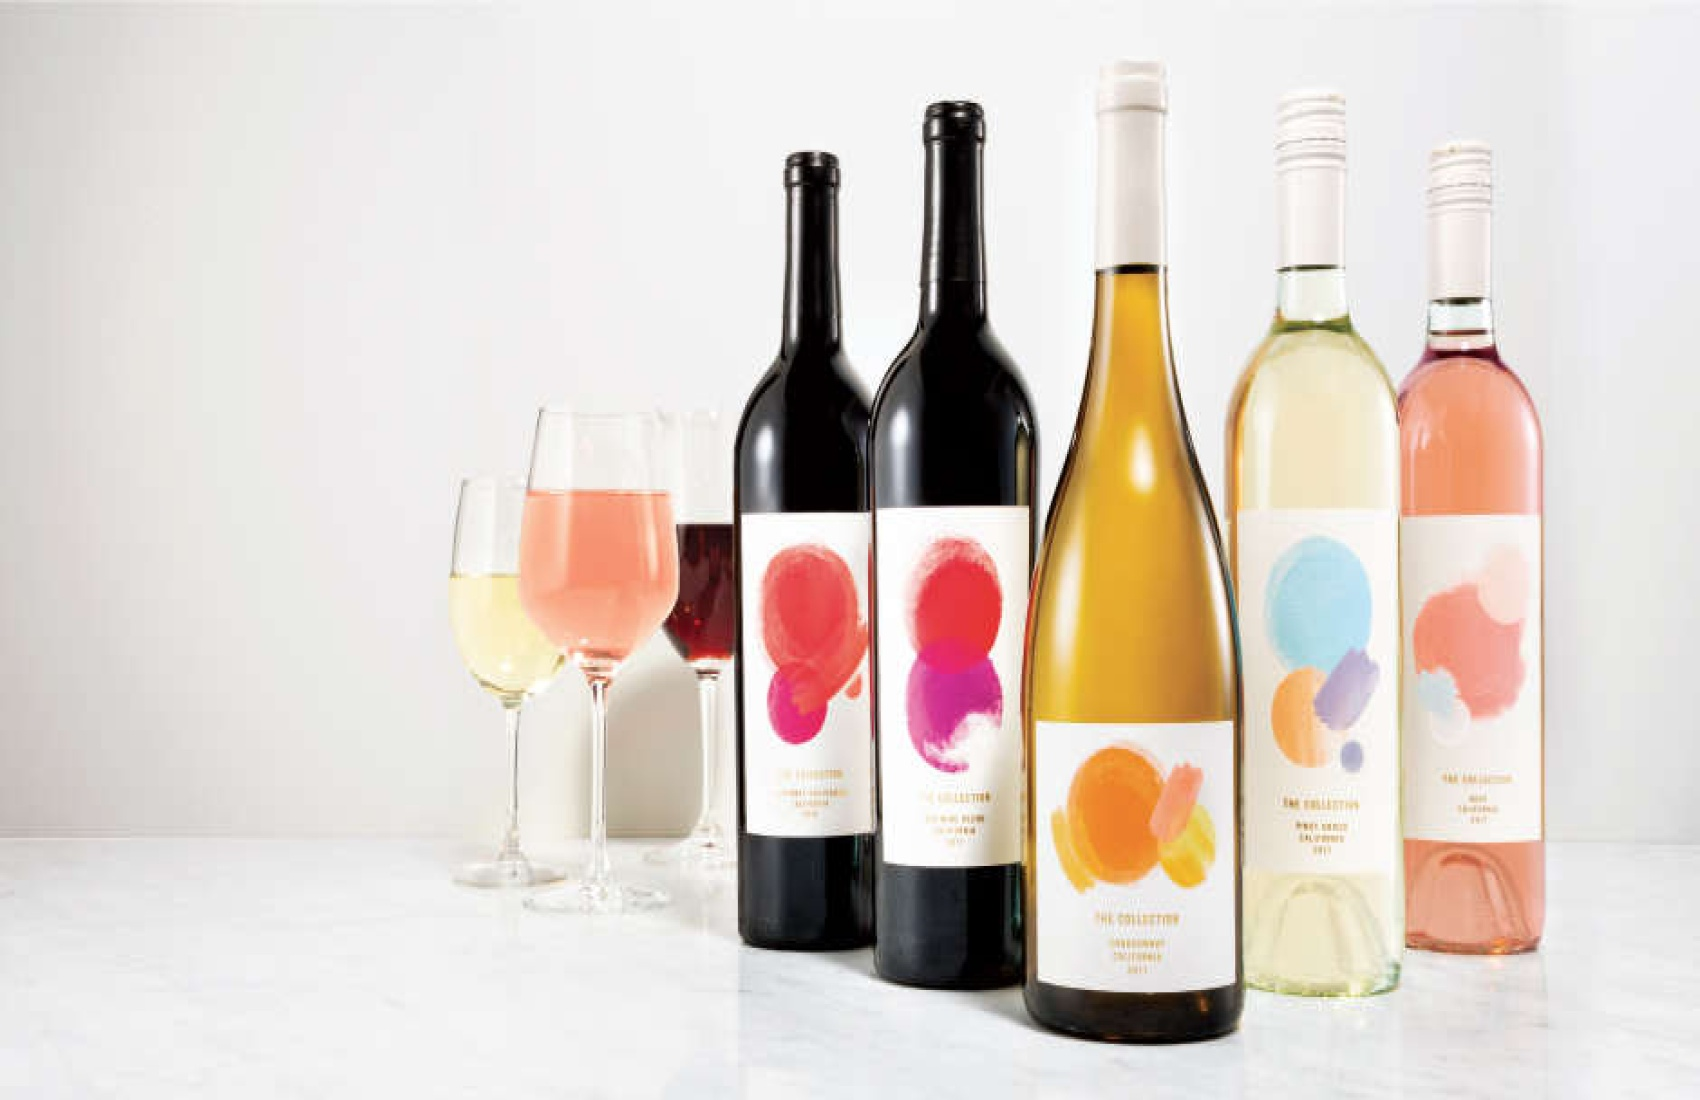wine: (1028, 46, 1250, 1045), (1230, 59, 1413, 992), (869, 94, 1028, 997), (1408, 129, 1541, 966), (729, 157, 869, 941)
